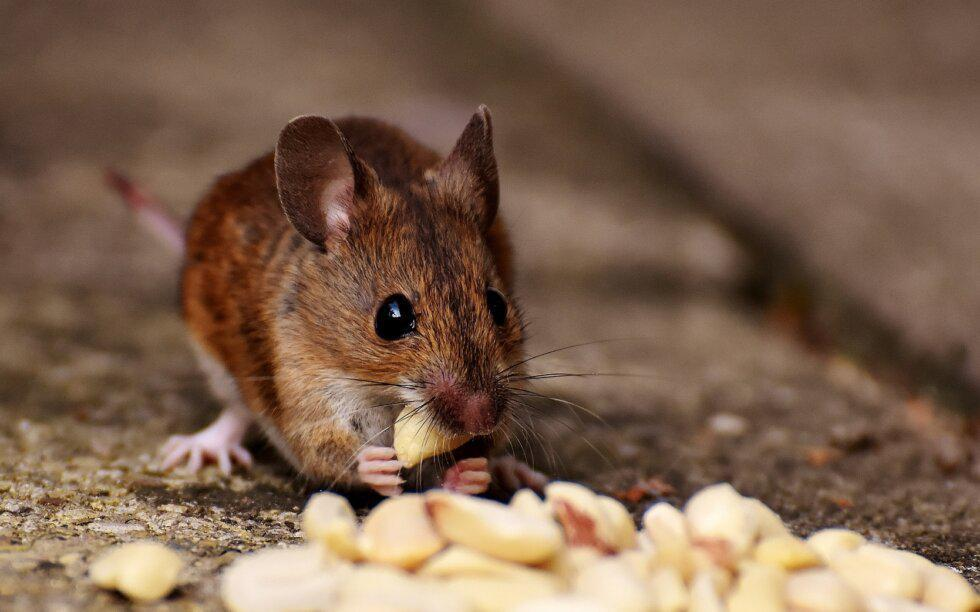rat: (106, 103, 532, 496)
